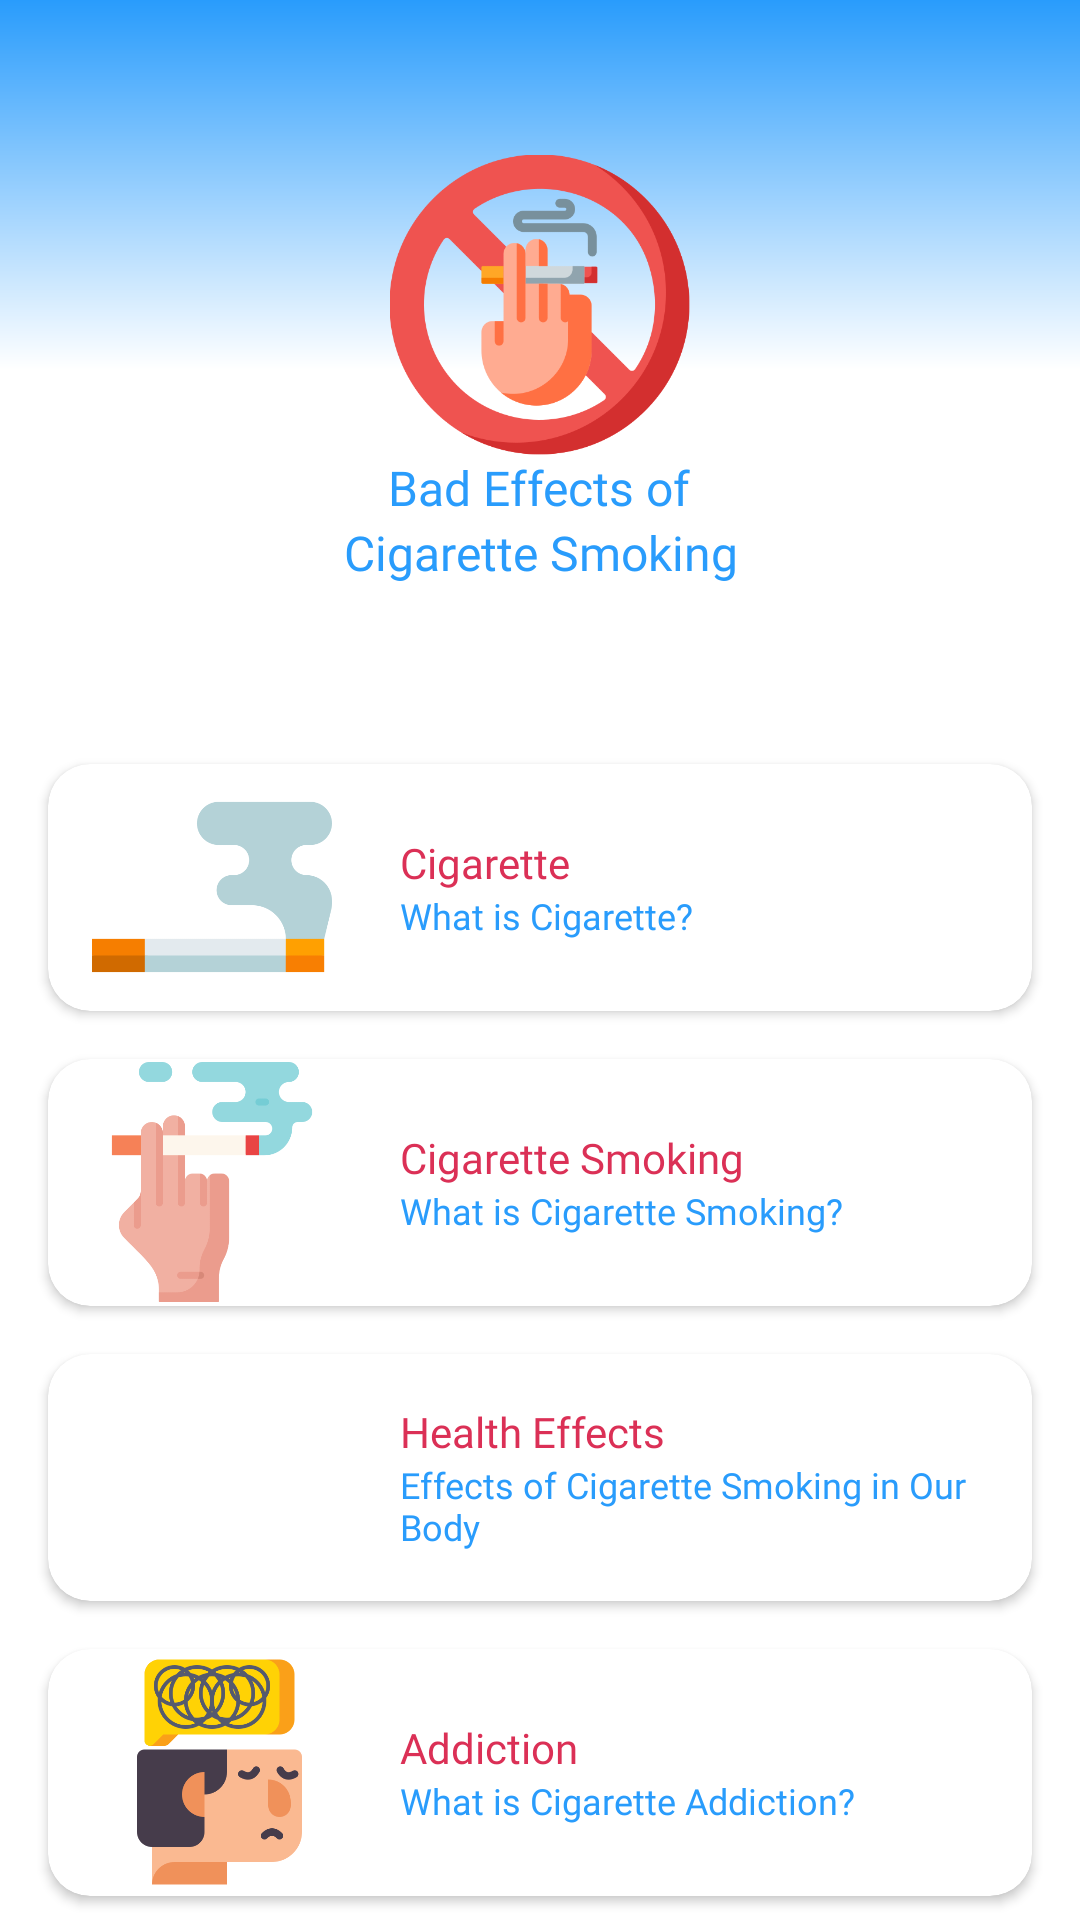

Icon bounding boxes for this 1080 x 1920 phone screenshot, format (x1, y1, x2, y2):
start smoking: (112, 1062, 312, 1302)
